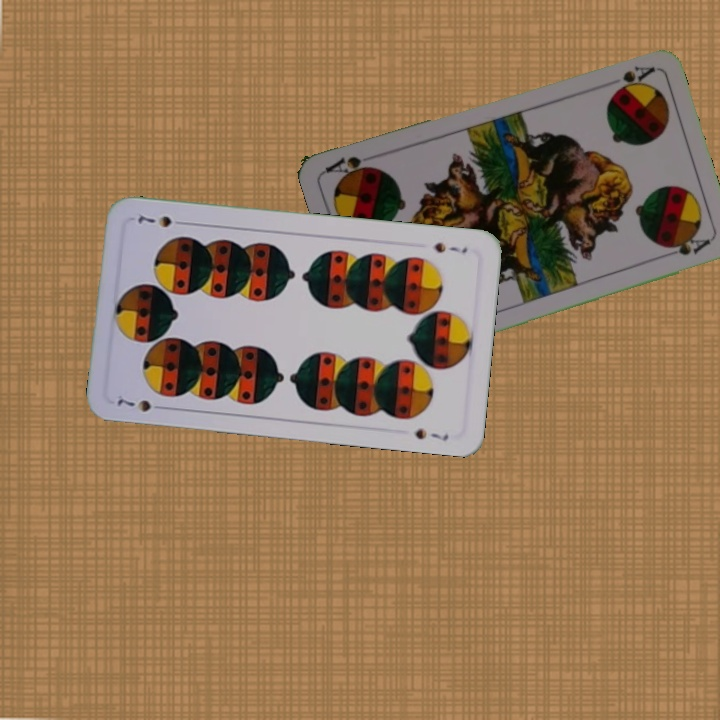S7: (113, 395, 169, 415), (430, 238, 470, 256)
SA: (608, 61, 657, 96)
